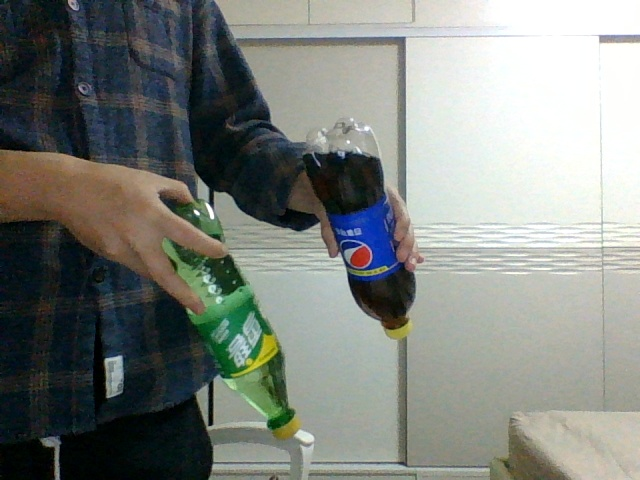Cola: (303, 121, 414, 338)
Sprite: (161, 201, 301, 438)
